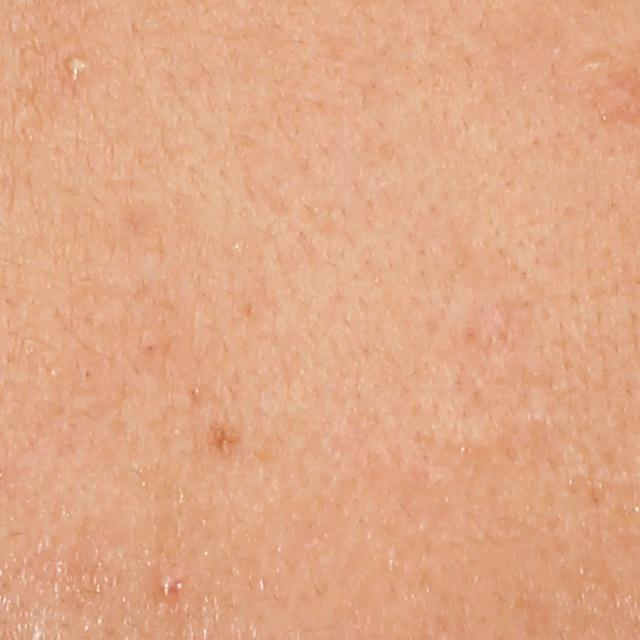comedo: (156, 566, 180, 592)
